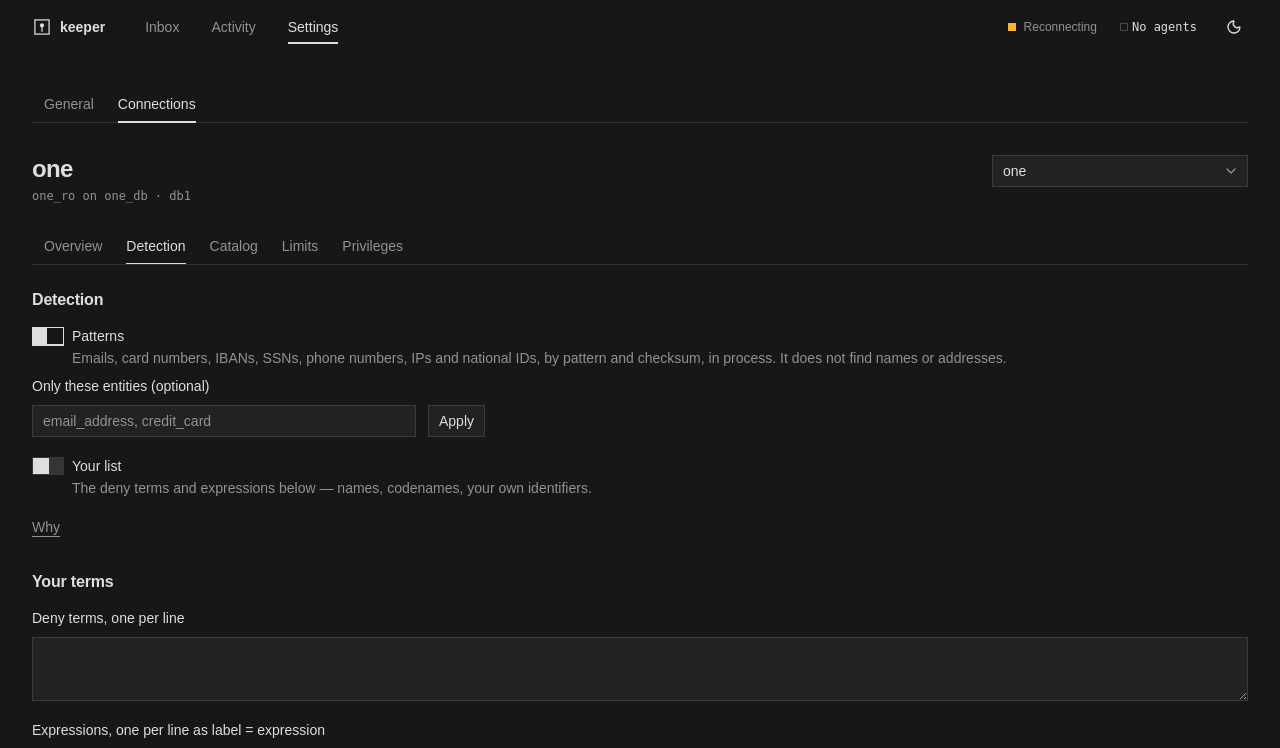
Test case: one page per connection › NAV-C7 each tab shows that connection's existing editor
This screenshot has width=1280, height=748.
Expected: the switch named "Patterns" next to "Patterns" is shown, [32,327,64,346]
Step 1. Click the link "Catalog" → (234, 246), box [198,228,270,264]
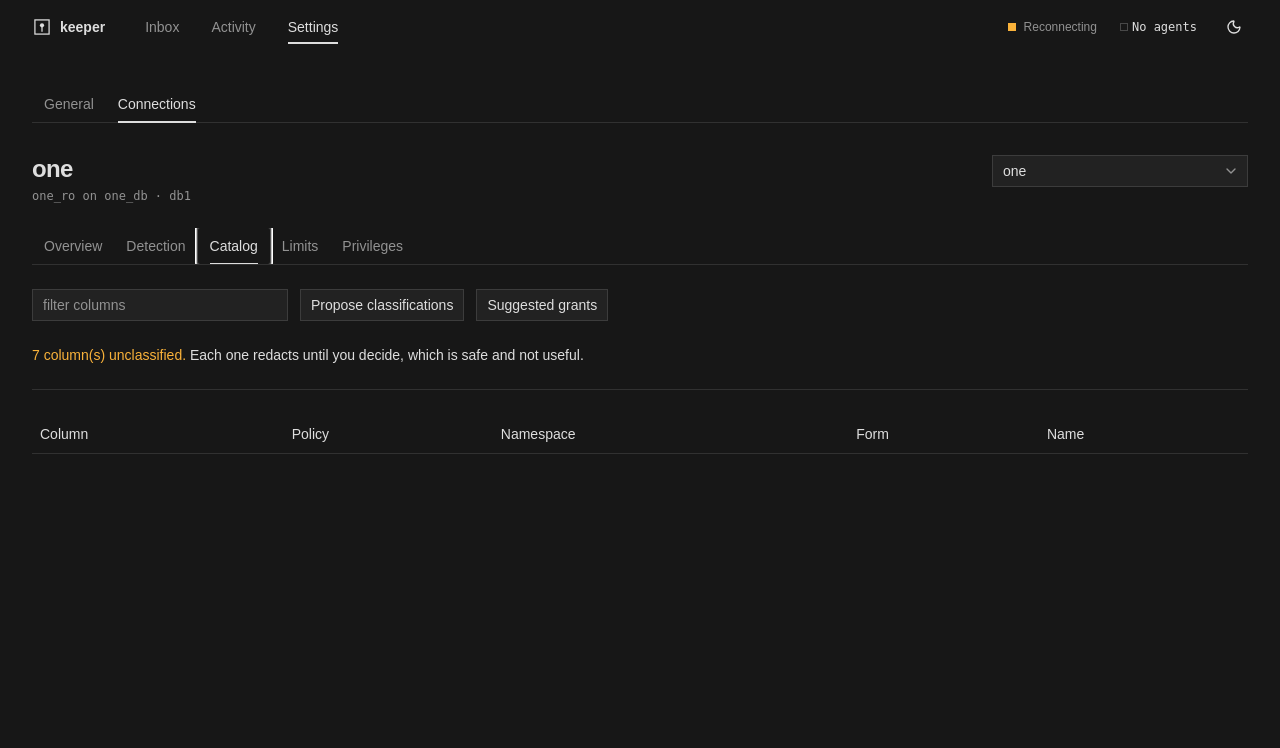
Now the text "7 column(s) unclassified." is shown, box [32,347,186,363]
Step 2. Click the link "Limits" → (300, 246), box [270,228,330,264]
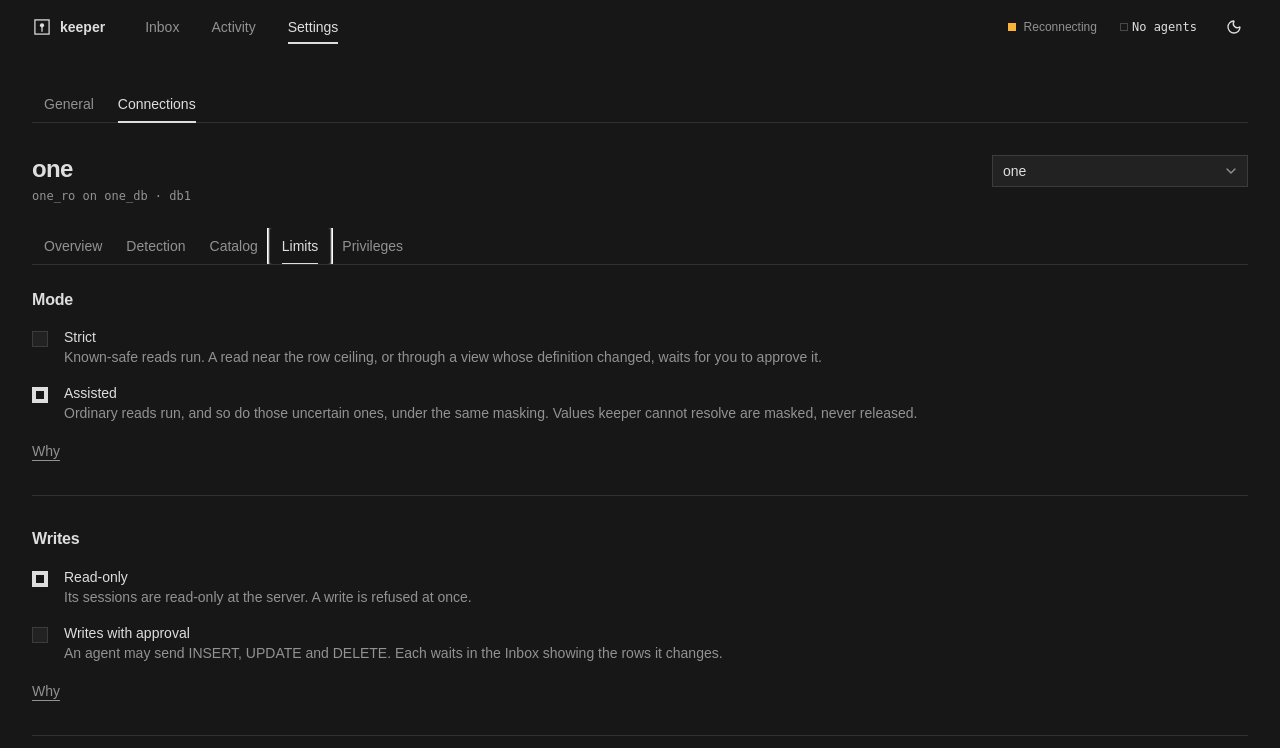
Now the radio button named "Assisted" next to "Assisted" is shown, box [32,387,48,403]
